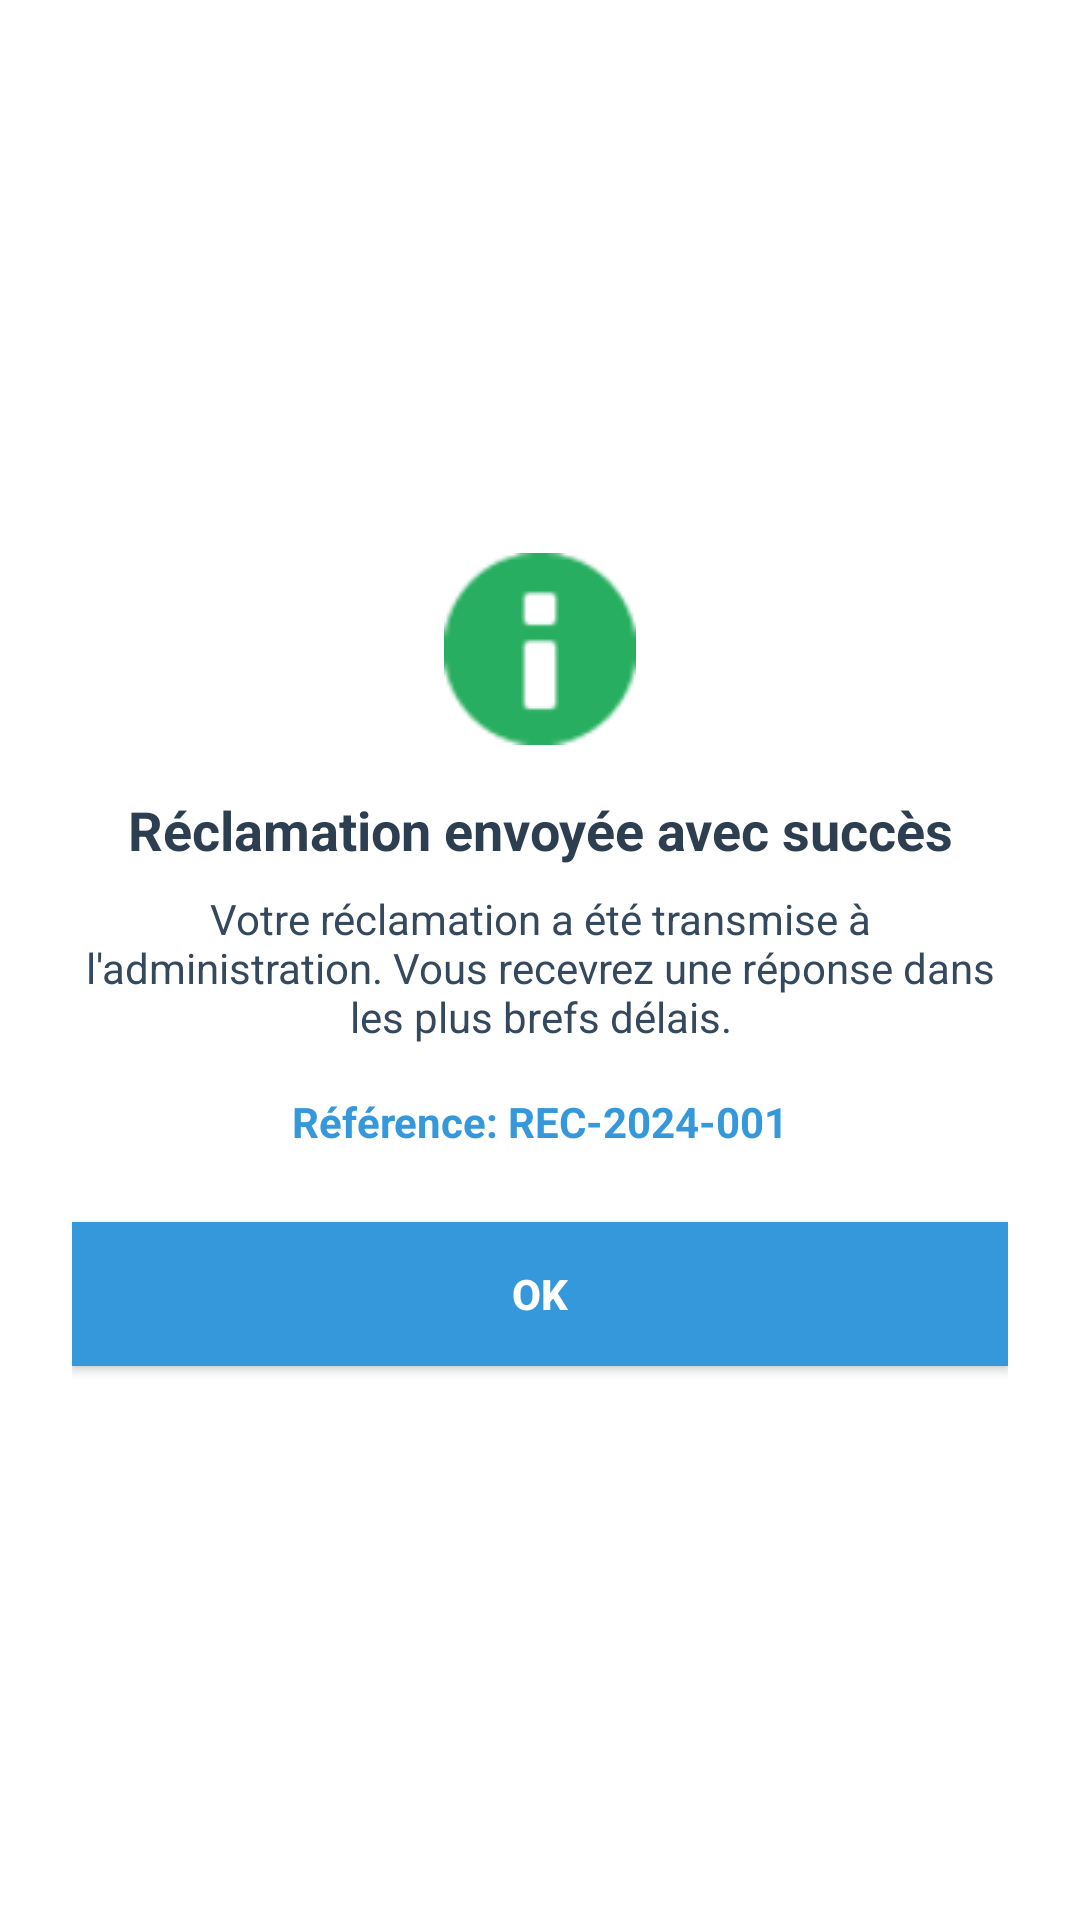

Icon bounding boxes for this 1080px×1920px phone screenshot, format (x1, y1, x2, y2):
info: (444, 553, 636, 745)
